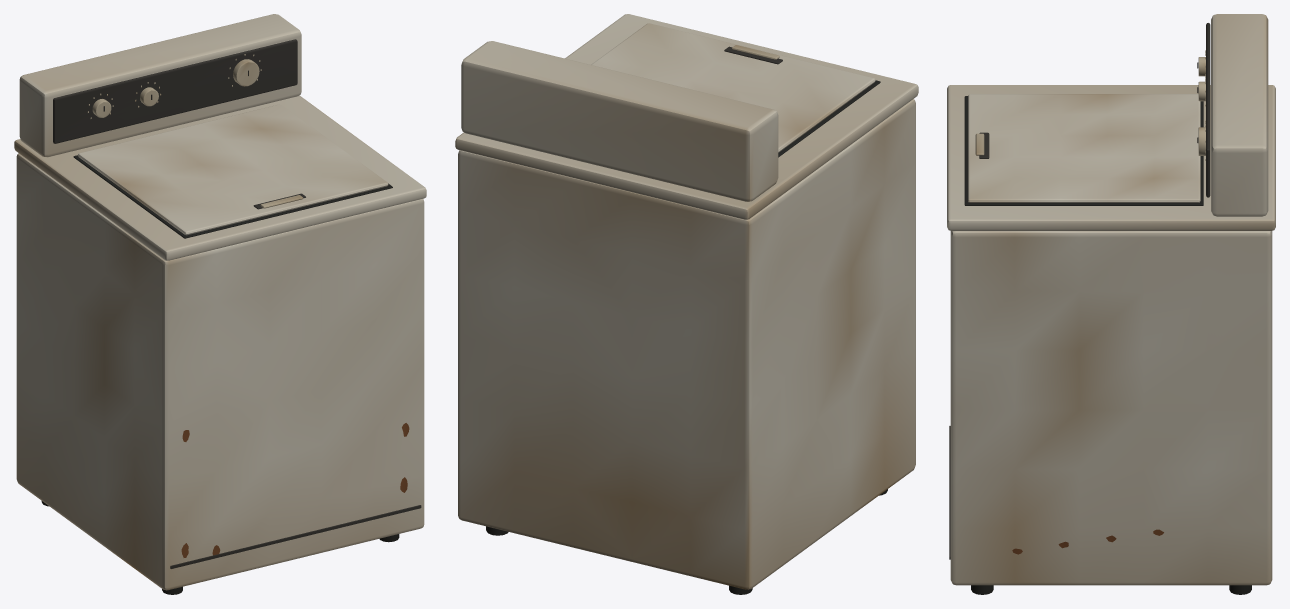
The model's file is washing_machine.glb.
3 views of the same model, side by side, from view 1: azimuth 30°, elevation 25°; view 2: azimuth 150°, elevation 25°; view 3: azimuth 270°, elevation 25° (orthographic). The views are drawn at different scales.
Parts seen in each view (by area): view 1: washing_machine_metal; view 2: washing_machine_metal; view 3: washing_machine_metal.
Part boxes in pixels (x1,y1,x2,y2): washing_machine_metal: (14, 14, 426, 594); washing_machine_metal: (455, 14, 918, 594); washing_machine_metal: (947, 14, 1275, 594).
Bounding box in the file's own units: 0.6904 × 1.07 × 0.7002.
